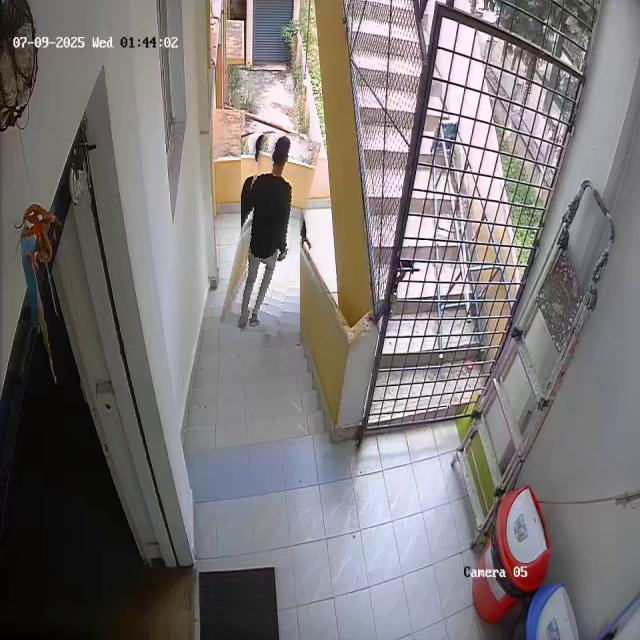person: (230, 131, 311, 334)
